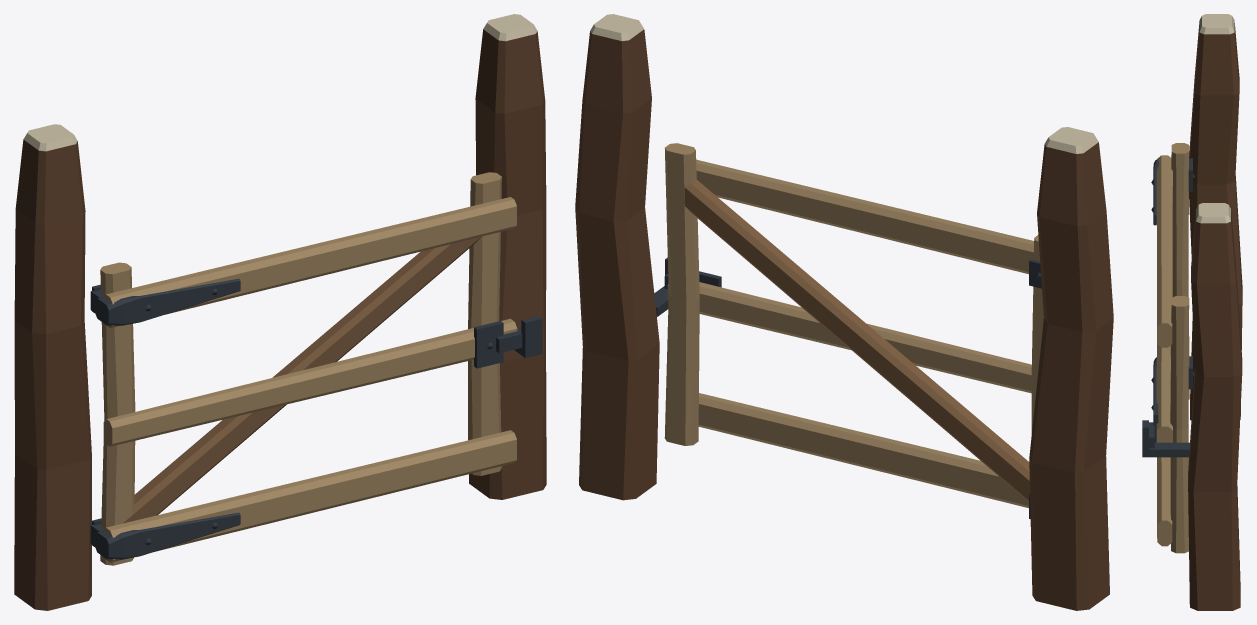
The model's file is stage0_wooden_gate.glb.
3 renders of one model, left to right at view 1: azimuth 30°, elevation 25°; view 2: azimuth 150°, elevation 25°; view 3: azimuth 270°, elevation 25°, orthographic. The views are drawn at different scales.
Visible parts, largest first — view 1: gate, posts; view 2: posts, gate; view 3: posts, gate.
Part boxes in pixels (<box>): gate: <box>92,172,522,565</box>; posts: <box>14,14,546,610</box>; posts: <box>575,14,1113,610</box>; gate: <box>664,143,1043,518</box>; posts: <box>1142,14,1242,610</box>; gate: <box>1149,143,1194,553</box>.
Bounding box in the file's own units: 2.03 × 1.72 × 0.401.
